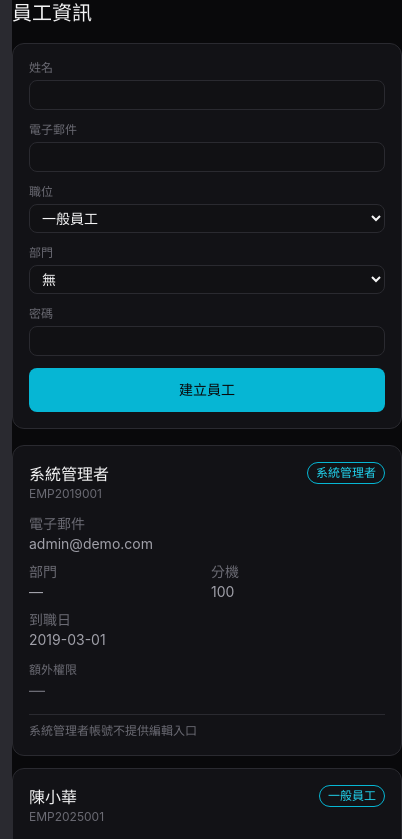
Scenario: 建立員工成功後新列出現在清單中
expect the text "陳小華" is shown: met, box x1=29 y1=787 x2=77 y2=807
Type "新員工" into the field labelled "姓名" at (207, 95), box x1=29 y1=80 x2=385 y2=110
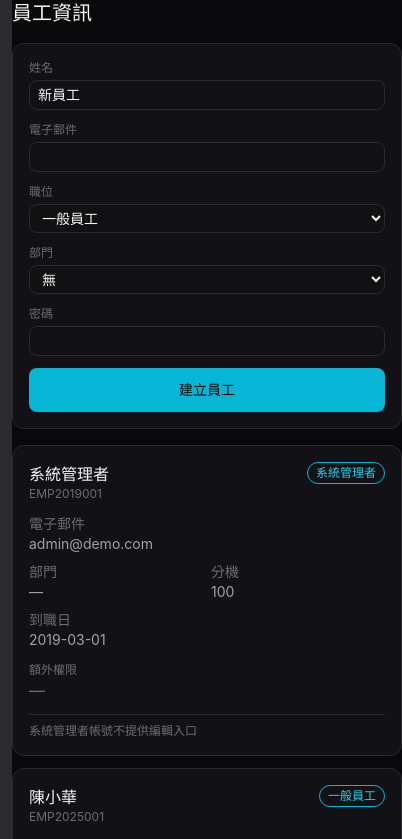
Type "new@demo.com" into the field labelled "電子郵件" at (207, 157), box x1=29 y1=142 x2=385 y2=172
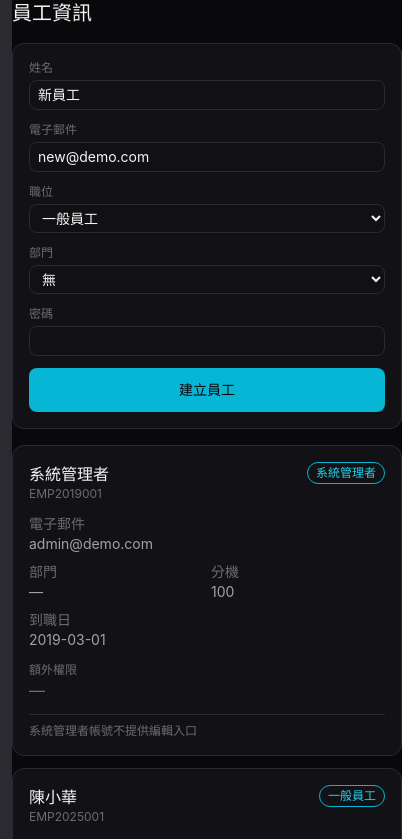
Type "Demo1234" into the password field labelled "密碼" at (207, 341), box x1=29 y1=326 x2=385 y2=356
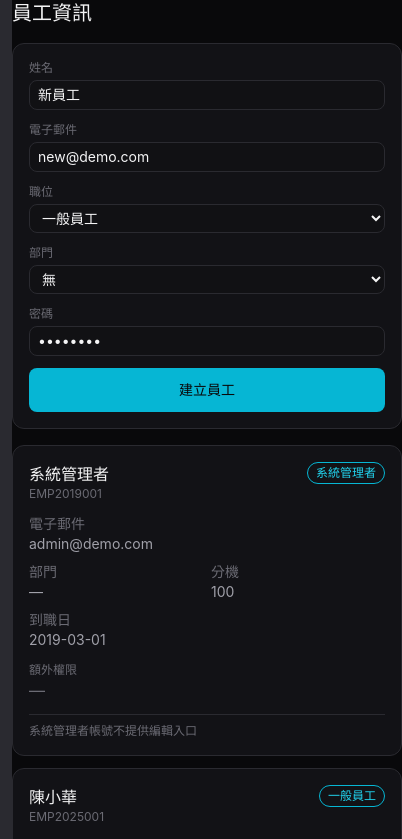
Click the button "建立員工" at (207, 390), box x1=29 y1=368 x2=385 y2=412
(page scrolled)
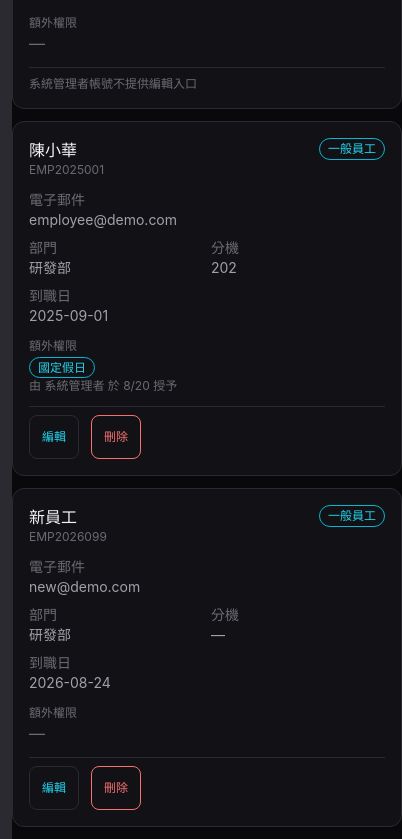
expect the text "新員工" is shown: met, box x1=29 y1=507 x2=77 y2=527
